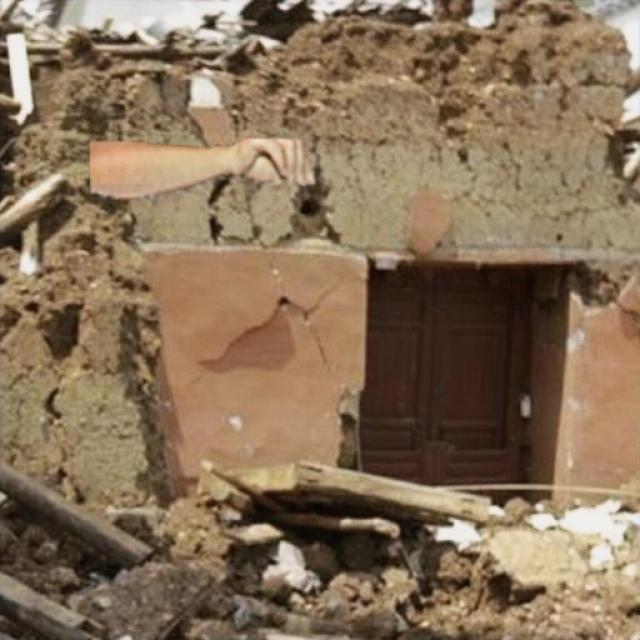Person in Rubble: (90, 138, 314, 198)
